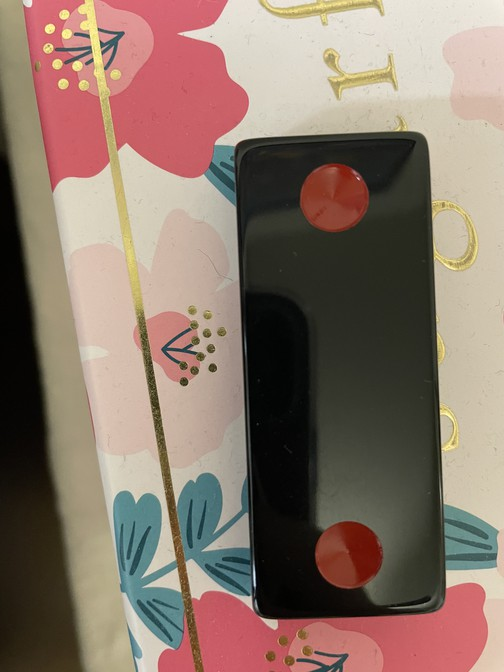earth: (234, 132, 449, 615)
